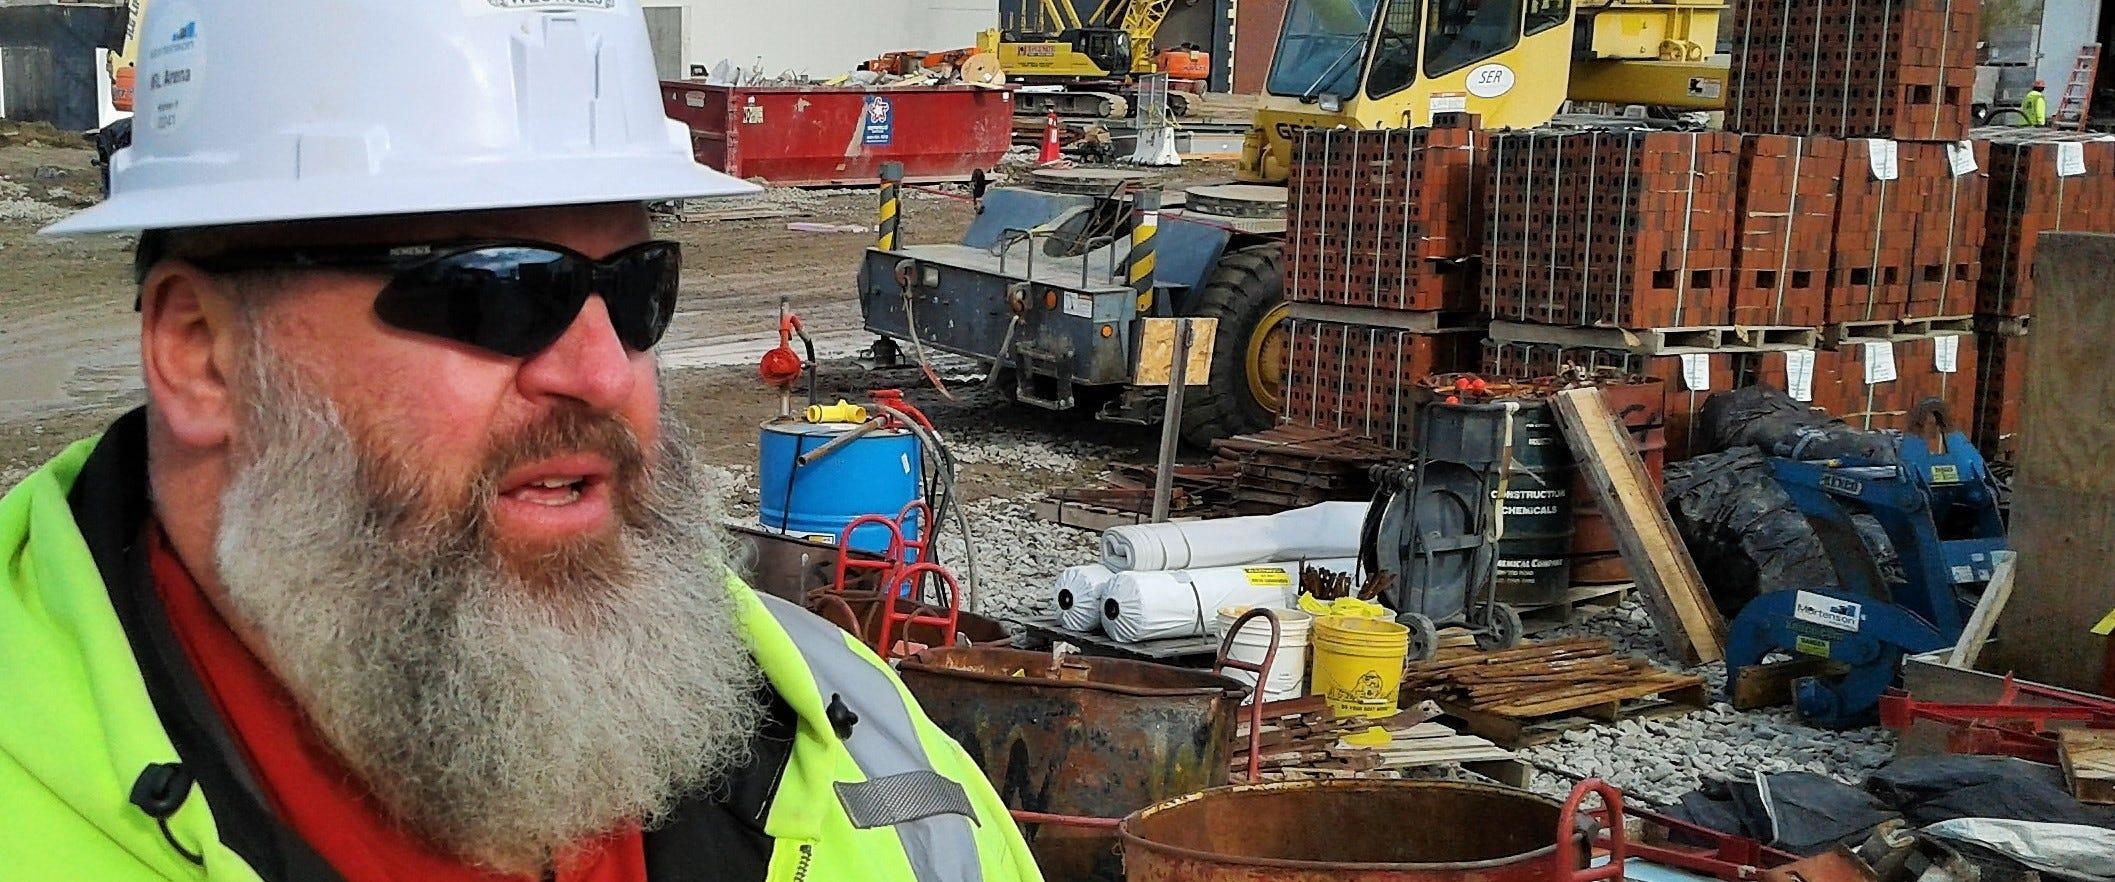hardhat: (34, 5, 772, 240)
worker: (3, 5, 1047, 882)
